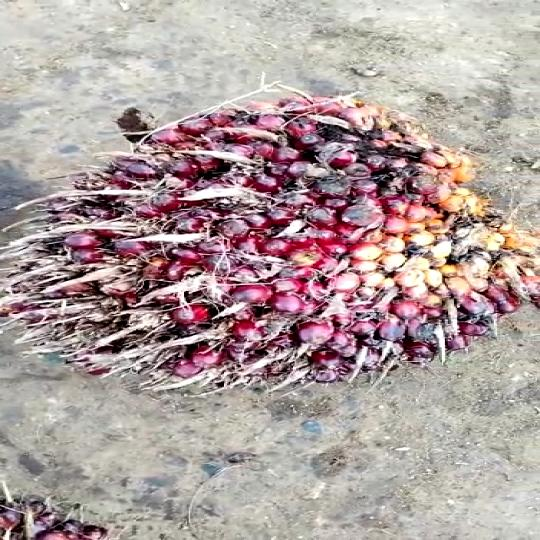masak: (0, 84, 540, 392)
